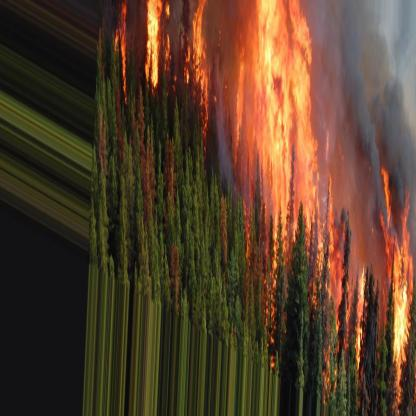fire: (252, 196, 364, 386), (222, 0, 330, 191), (378, 170, 413, 390), (180, 6, 215, 136), (142, 0, 173, 96), (112, 9, 132, 120)
smoke: (336, 4, 406, 201)
